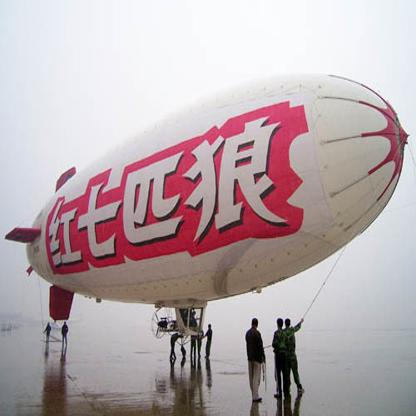Airship: (15, 72, 411, 337)
